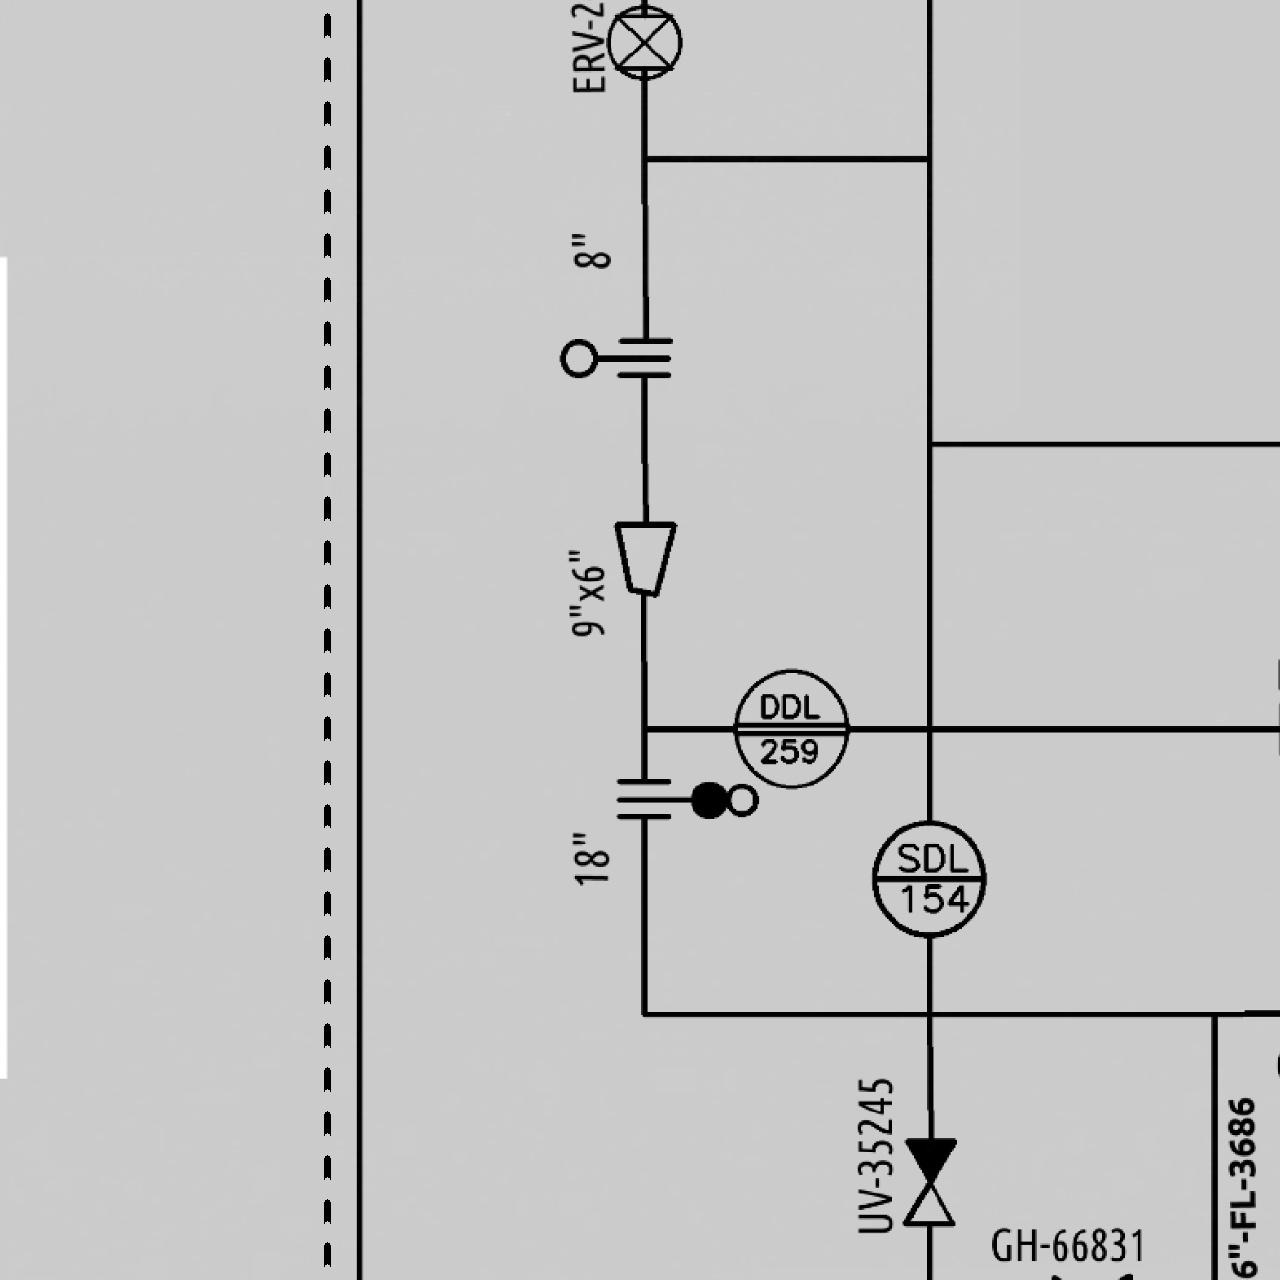Control-Panel: (726, 663, 855, 792)
Half closed valve: (898, 1133, 960, 1228)
